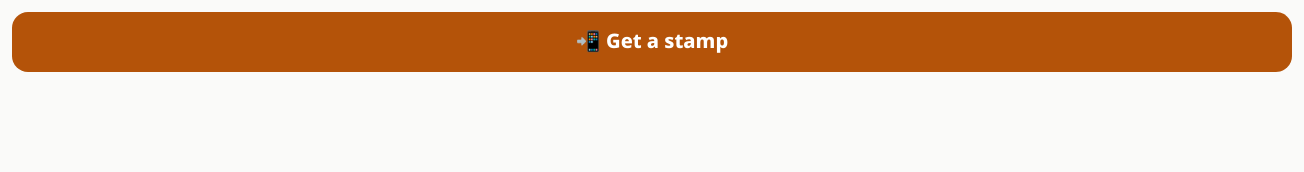
Test: CollectStamp › without Web NFC (iPhone) the button shows how to tap the shop card
Click the button "📲 Get a stamp" at (652, 42), box left=12, top=12, right=1292, bottom=72
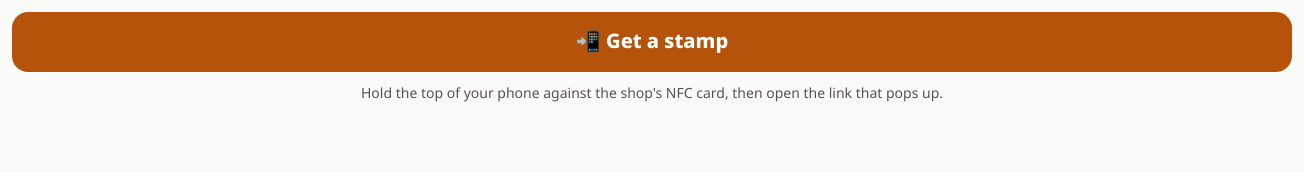
Expected: the text "Hold the top of your phone against the shop's NFC card, then open the link that pops up." is shown, left=361, top=83, right=943, bottom=104
